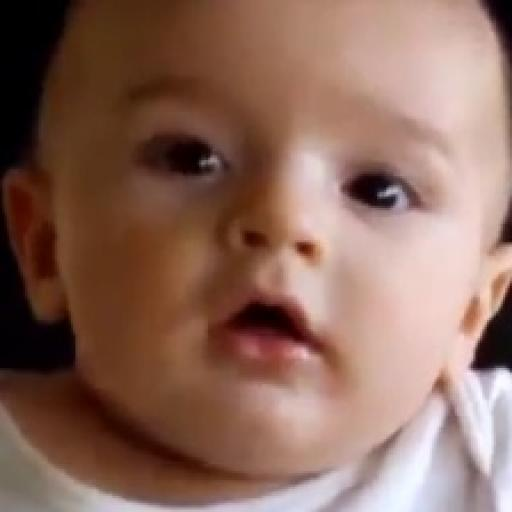Autism: (29, 0, 512, 512)
